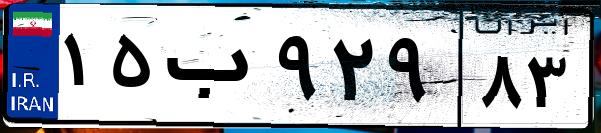1: (57, 26, 110, 100)
2: (330, 28, 385, 110)
3: (525, 38, 570, 115)
5: (110, 28, 158, 98)
8: (475, 38, 525, 113)
9: (270, 28, 330, 110), (385, 28, 445, 110)
ب: (158, 20, 270, 120)
